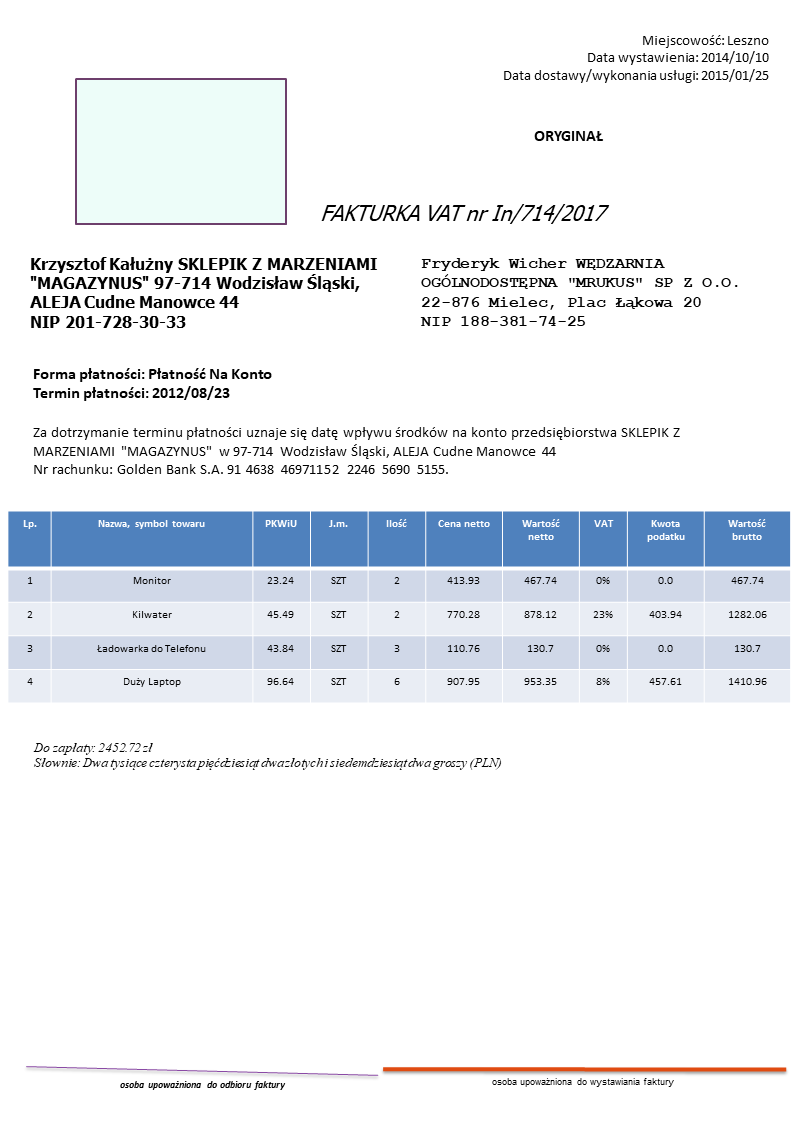Table: (6, 509, 794, 702)
TextBox: (29, 423, 684, 479), (28, 252, 379, 332), (419, 253, 740, 332), (29, 739, 504, 773), (499, 32, 771, 87), (29, 364, 274, 403), (318, 199, 610, 228), (489, 1074, 676, 1091), (118, 1076, 287, 1093), (533, 127, 605, 143)
